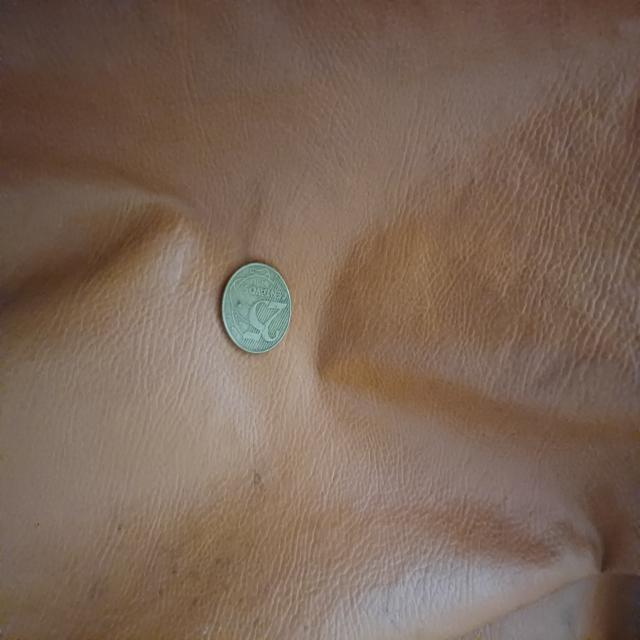25 cents: (216, 257, 295, 359)
